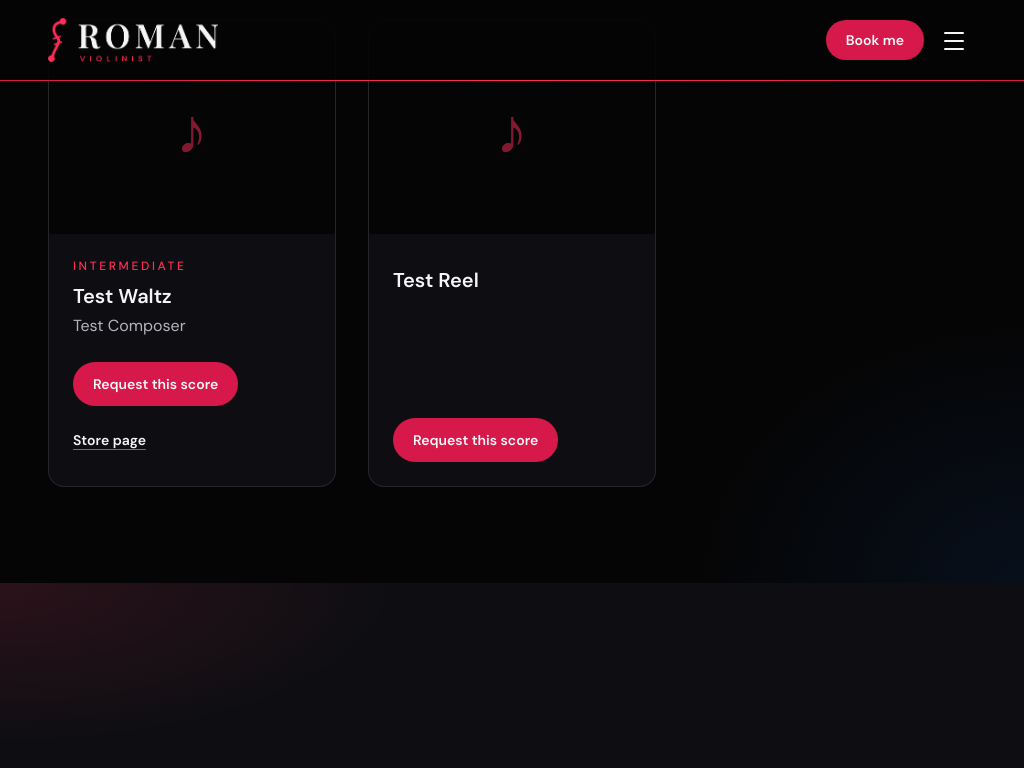
Scenario: sheet music page › opens the contact form with the request written
(page scrolled)
Click the link named "Request this score: Test Waltz". click: {"x": 156, "y": 384}
box: [73, 362, 238, 406]
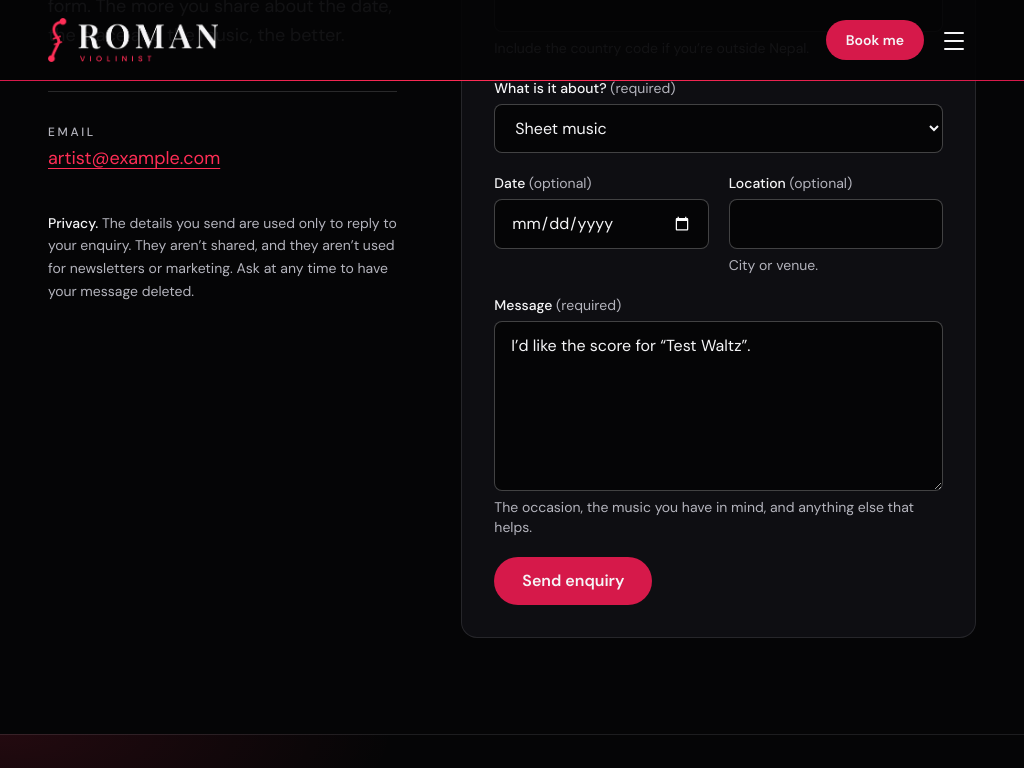
Now the dropdown labelled "What is it about? (required)" shows "Sheet music", box [494, 104, 943, 153]
Now the text box labelled "Message (required)" holds "I’d like the score for “Test Waltz”.", box [494, 321, 943, 491]
